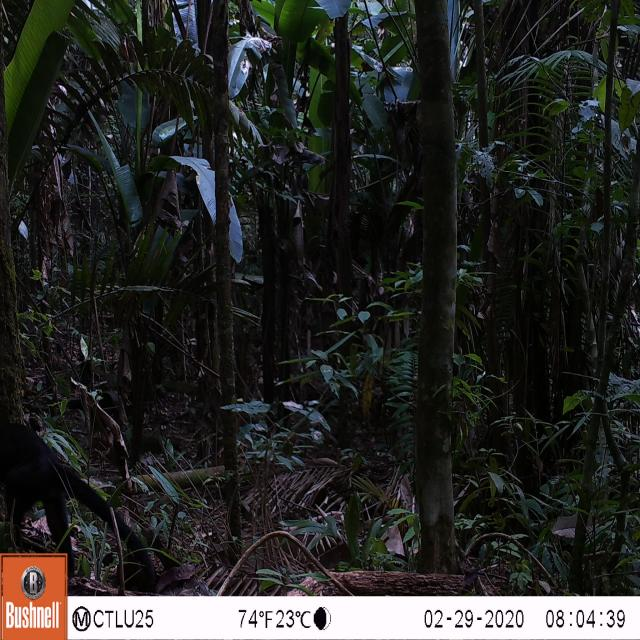Tayra: (0, 412, 136, 564)
